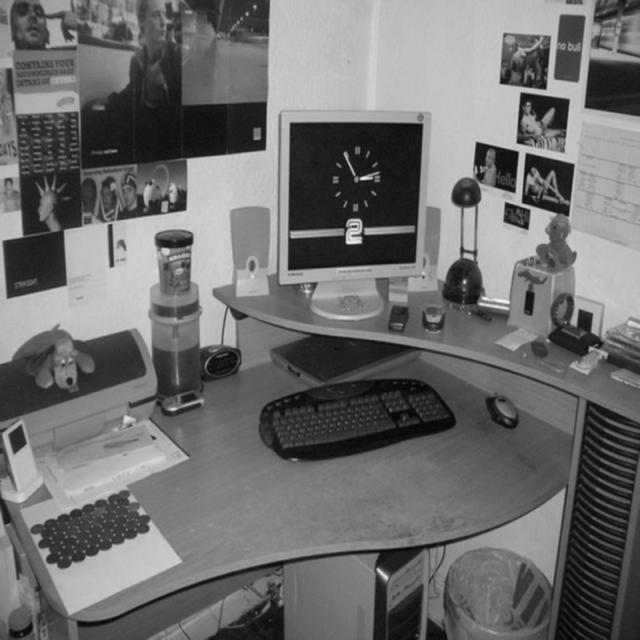dog: (7, 321, 94, 391)
